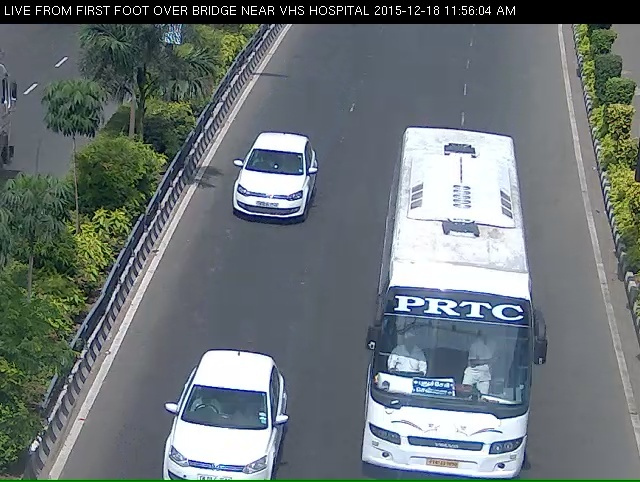Bus: (372, 126, 547, 480)
Car: (152, 377, 284, 479), (225, 139, 305, 237)
